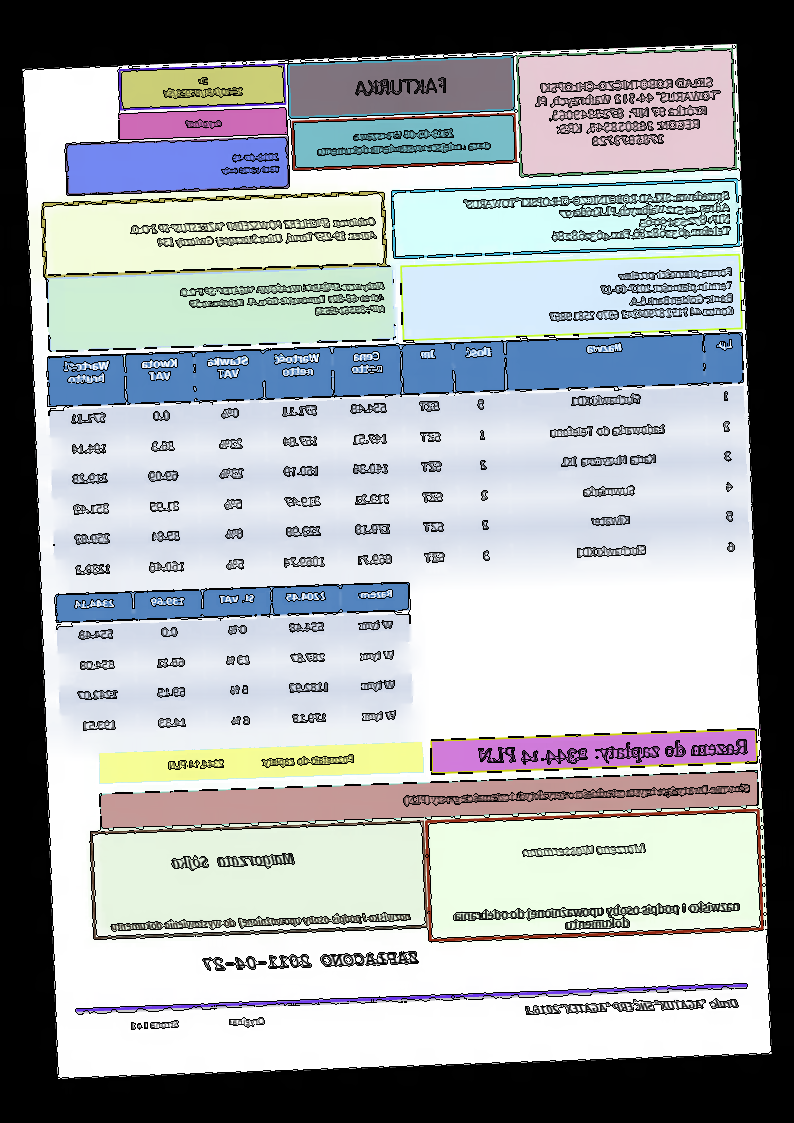Table: (45, 331, 752, 593), (54, 580, 416, 747)
TextBox: (462, 187, 733, 249), (532, 74, 724, 152), (451, 897, 744, 936), (547, 264, 736, 323), (402, 779, 752, 810), (476, 731, 751, 769), (128, 212, 380, 253), (177, 277, 388, 324), (109, 908, 413, 934), (202, 947, 421, 975), (315, 125, 493, 158), (523, 994, 740, 1017), (166, 749, 357, 774), (127, 1011, 268, 1034), (170, 848, 297, 872), (519, 839, 650, 861), (160, 71, 245, 102), (351, 74, 450, 99), (220, 149, 282, 178), (184, 115, 224, 132)
